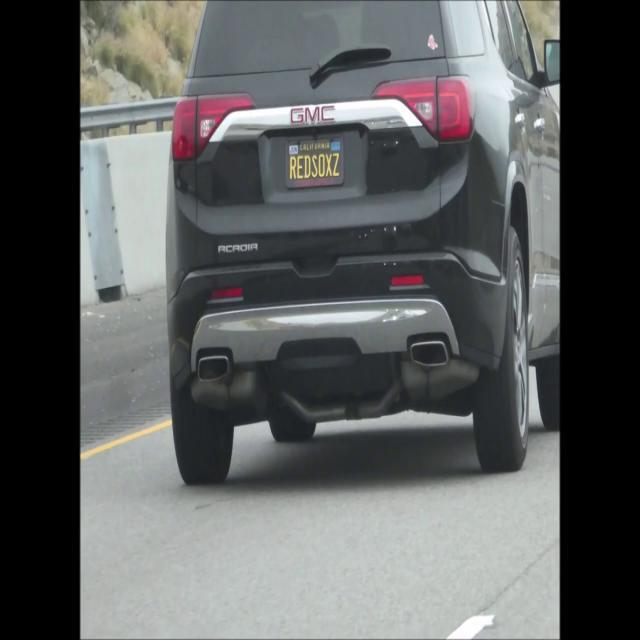licenseplate: (284, 136, 344, 187)
